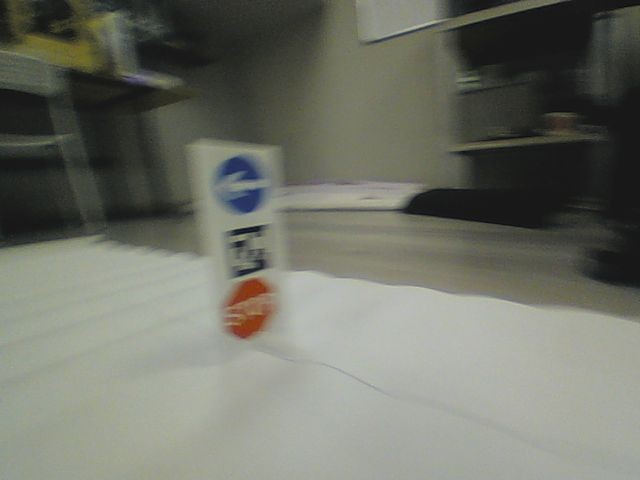Stop: (224, 281, 275, 338)
